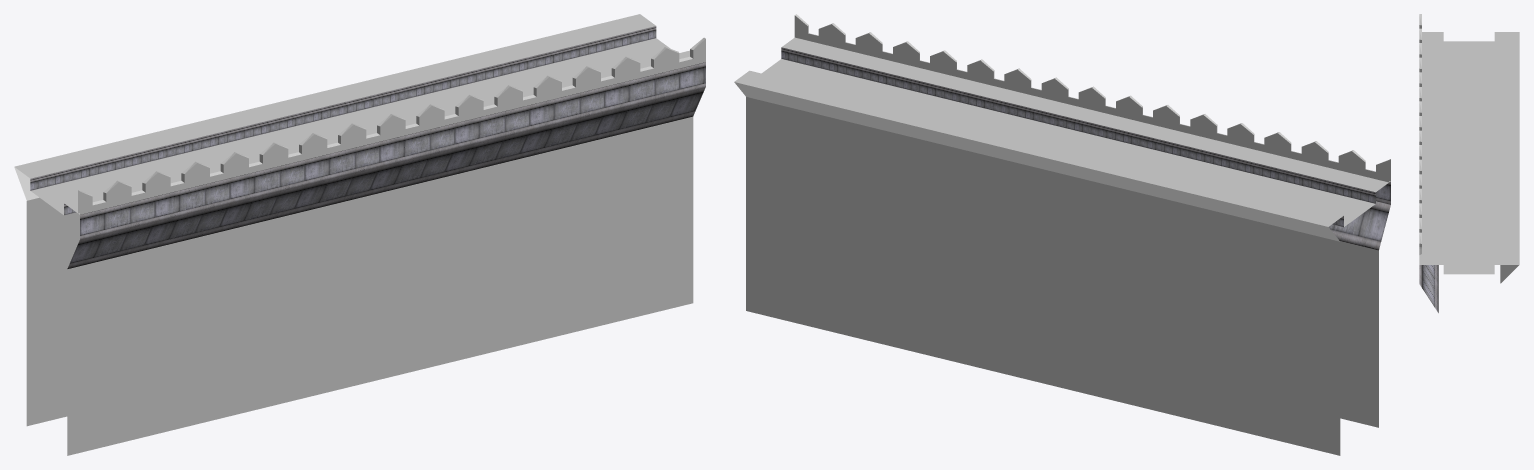
The model's file is LongWall.FBX.
3 renders of one model, left to right at view 1: azimuth 30°, elevation 25°; view 2: azimuth 150°, elevation 25°; view 3: azimuth 270°, elevation 25°, orthographic. The views are drawn at different scales.
Visible parts, largest first — view 1: longWall; view 2: longWall; view 3: longWall.
Part boxes in pixels (<box>): longWall: <box>14,14,705,455</box>; longWall: <box>734,14,1390,455</box>; longWall: <box>1419,14,1519,312</box>.
Size of the model in its own units: 862 by 360 by 157.
